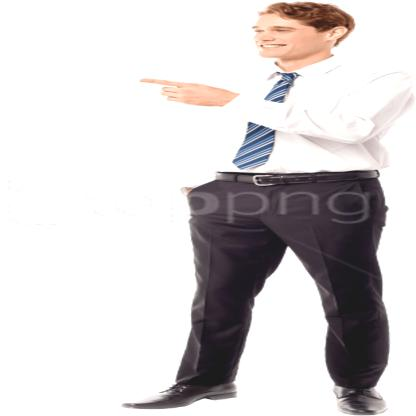Right: (119, 70, 263, 117)
